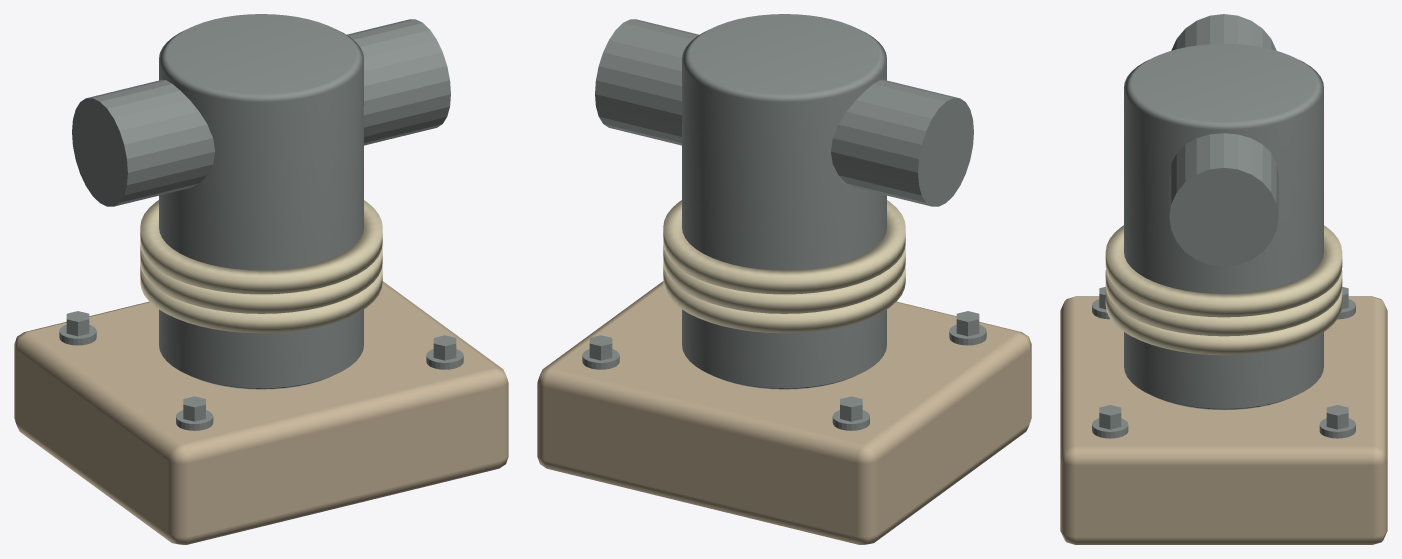
Rendered from coastal-saltworks-and-trade-port-coastal-saltworks-and-c2d53c04__31406.glb.
The picture shows the model from 3 angles, left to right: view 1: azimuth 30°, elevation 25°; view 2: azimuth 150°, elevation 25°; view 3: azimuth 270°, elevation 25°; orthographic projection. The views are drawn at different scales.
Visible parts, largest first — view 1: coastal-saltworks-and-trade-port-mooring-bollard; view 2: coastal-saltworks-and-trade-port-mooring-bollard; view 3: coastal-saltworks-and-trade-port-mooring-bollard.
Part boxes in pixels (left/top/right/bottom): coastal-saltworks-and-trade-port-mooring-bollard: left=14, top=14, right=508, bottom=544; coastal-saltworks-and-trade-port-mooring-bollard: left=537, top=14, right=1031, bottom=544; coastal-saltworks-and-trade-port-mooring-bollard: left=1060, top=14, right=1387, bottom=544.
Bounding box in the file's own units: 0.42 × 0.47 × 0.36.
